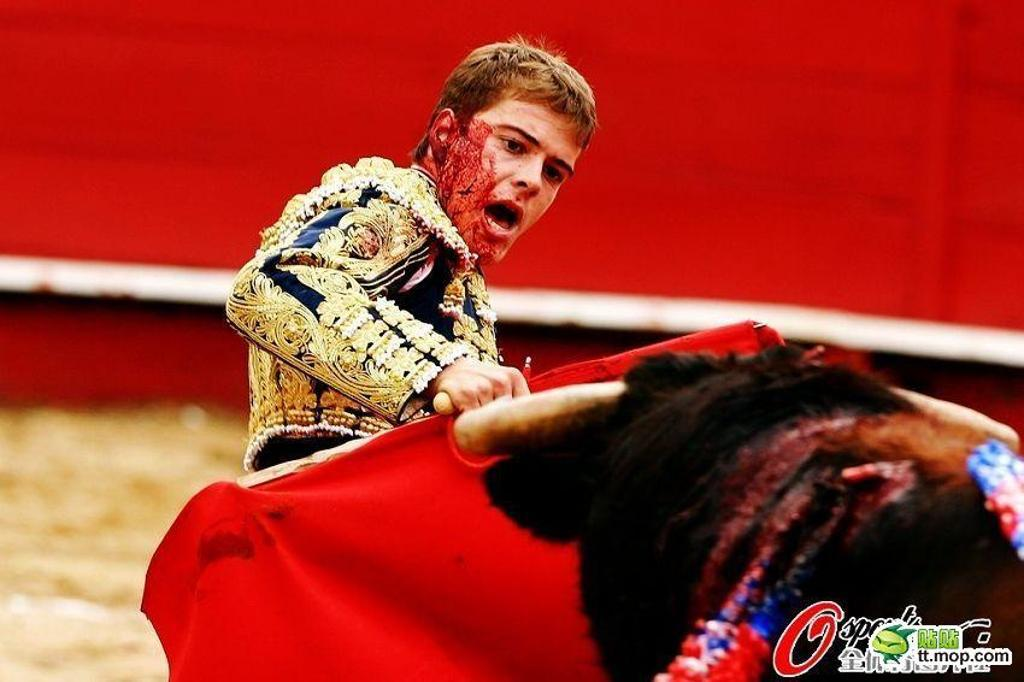face: (445, 85, 593, 259)
